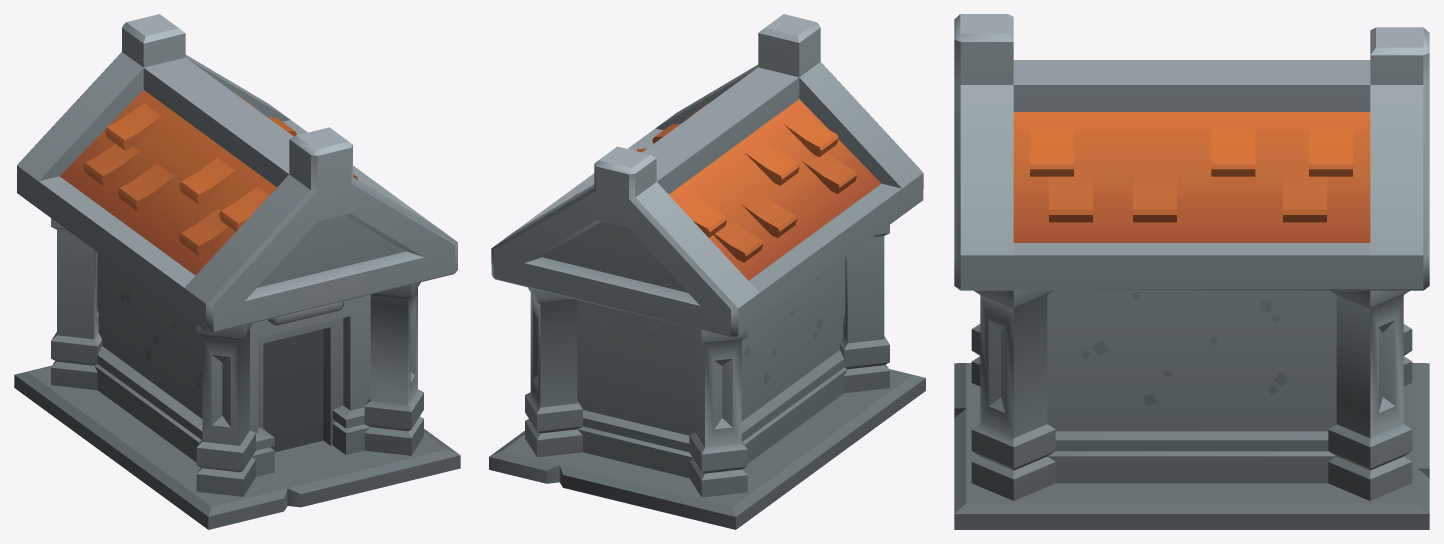
The model's file is kay-mausoleu.gltf.
The picture shows the model from 3 angles, left to right: view 1: azimuth 30°, elevation 25°; view 2: azimuth 150°, elevation 25°; view 3: azimuth 270°, elevation 25°; orthographic projection. The views are drawn at different scales.
Visible parts, largest first — view 1: crypt; view 2: crypt; view 3: crypt.
Part boxes in pixels (<box>): crypt: <box>14,14,460,529</box>; crypt: <box>489,14,925,529</box>; crypt: <box>954,14,1429,529</box>.
Bounding box in the file's own units: 3 × 4 × 4.
1 material, 1 textured.
